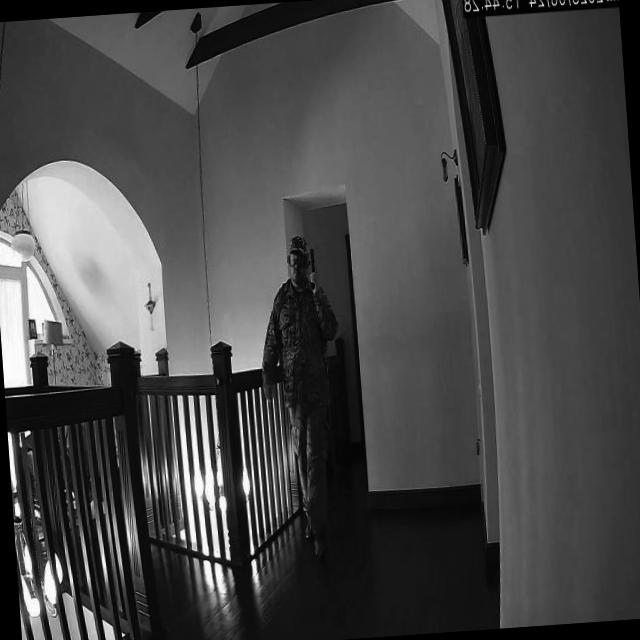gun: (306, 243, 318, 290)
person with a gun: (250, 228, 356, 563)
